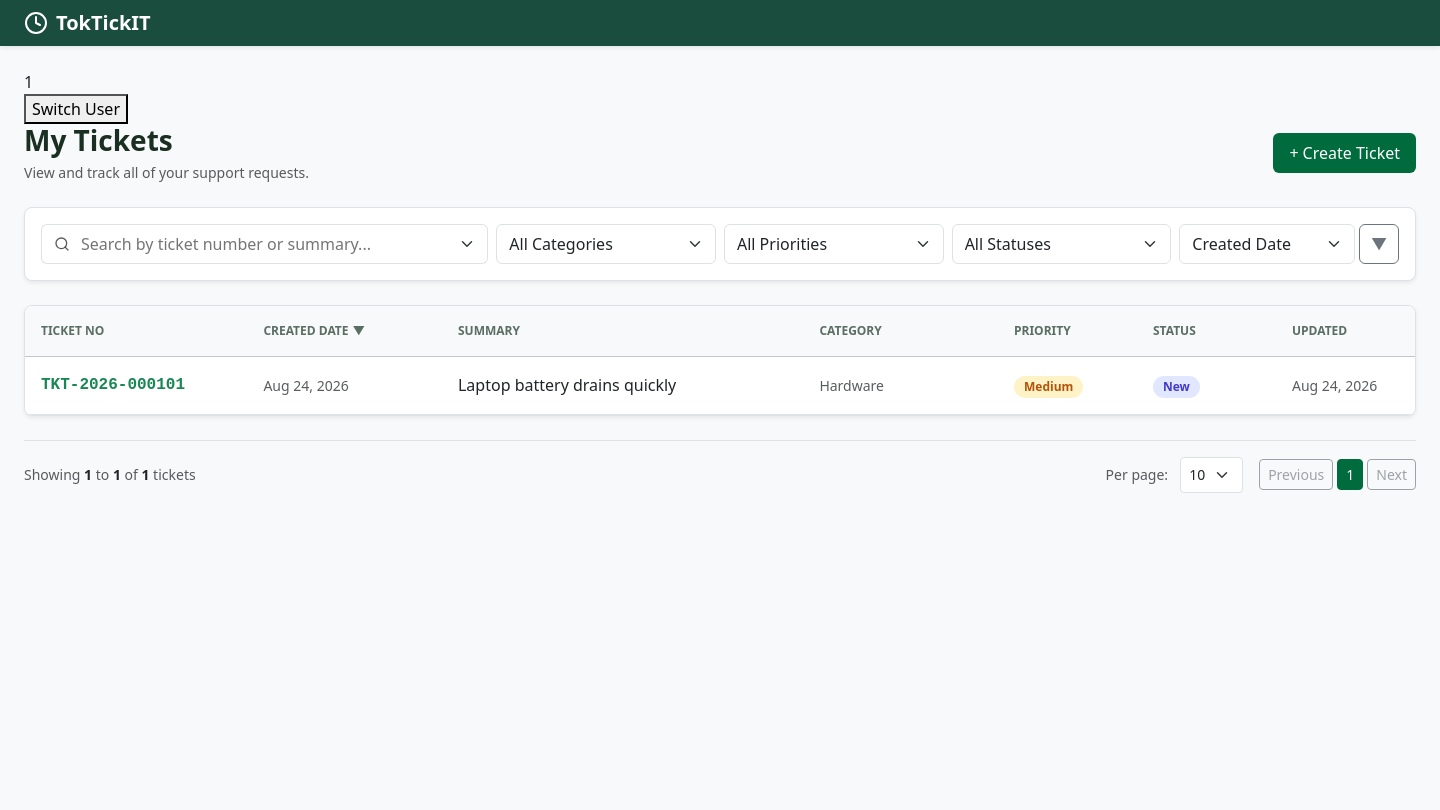
MyTickets Component Tests (UI-05, UI-06, UI-07) › UI-06: No-results filter state (tickets exist, filter matches none) (BR-12, AC-09) › shows distinct 'No results found' state and 'Clear Filters' CTA when filter/search yields zero matches
Expected: the table with test id "desktop-ticket-table" is shown, [25,306,1415,415]
Note: Type search query matching nothing
Type "nonexistent" into the field with test id "ticket-search-input".
click(285, 244); type("nonexistent")  # box [81,224,488,264]
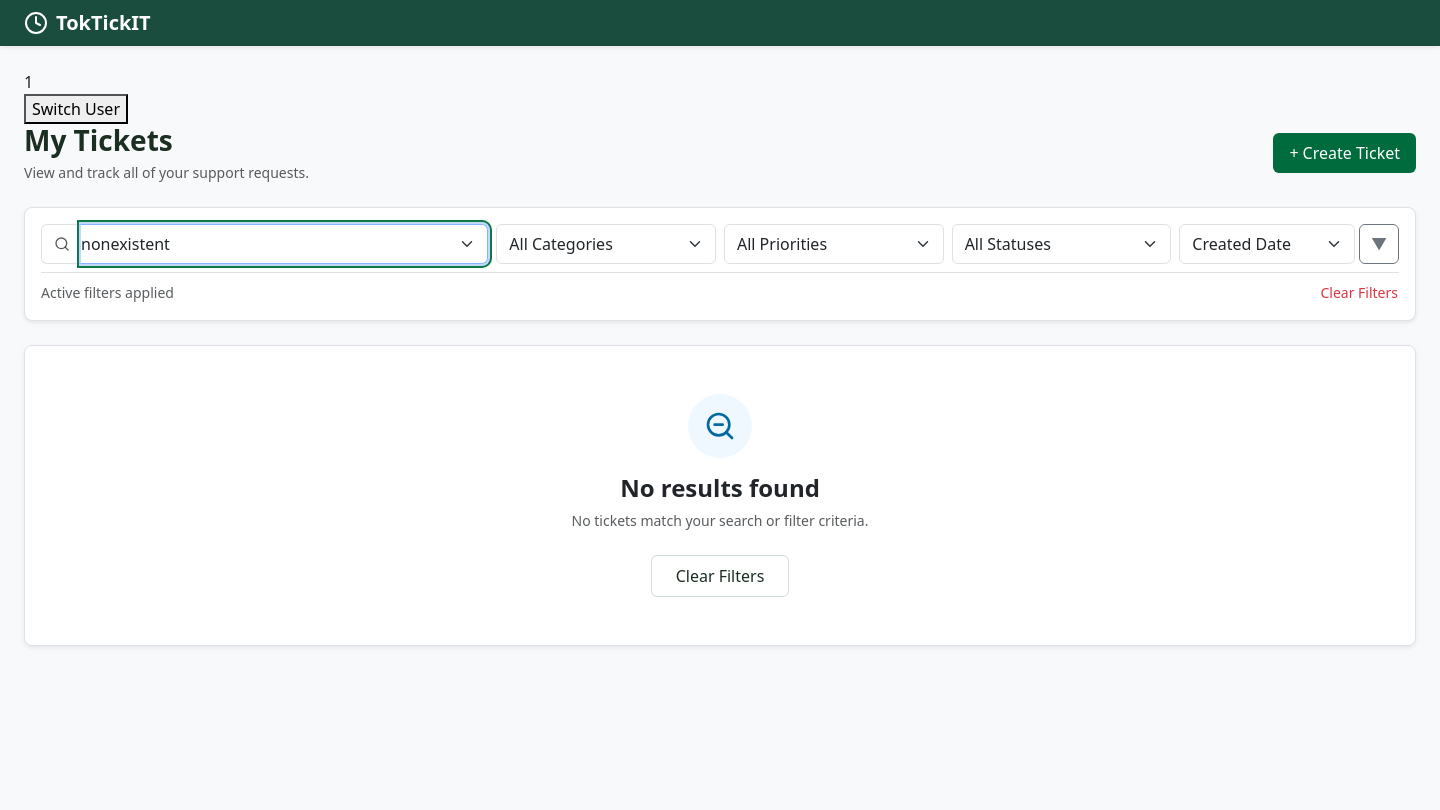
Expected: the element with test id "no-results-state" is shown, [24,345,1416,646]
Expected: the heading "No results found" is shown, [620,471,820,504]
Expected: the text "No tickets match your search or filter criteria." is shown, [572,511,868,530]
Note: Click Clear Filters button
Click the button with test id "no-results-clear-filters-cta".
click(720, 576)  # box [651,555,789,597]
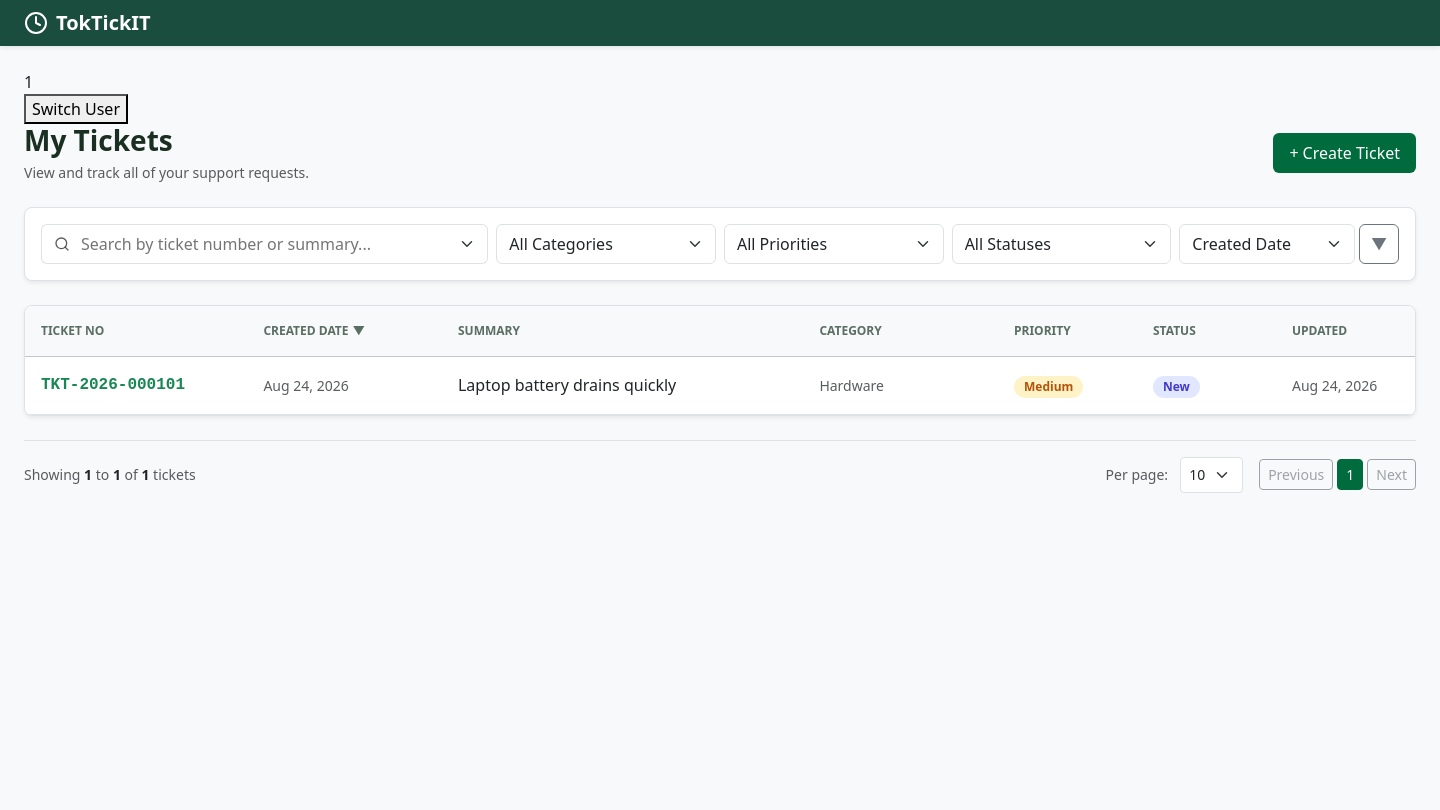
Expected: the table with test id "desktop-ticket-table" is shown, [25,306,1415,415]
Expected: the text "TKT-2026-000101" is shown, [25,356,247,414]
